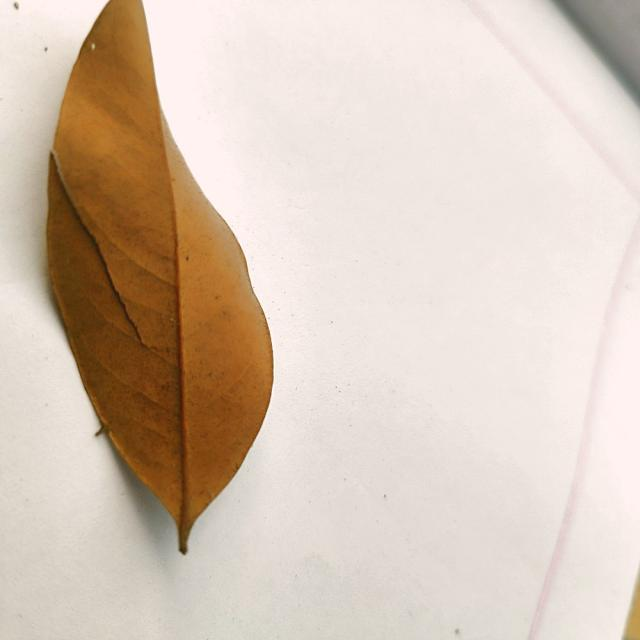Dry_Leaf-Lychee: (44, 0, 275, 554)
